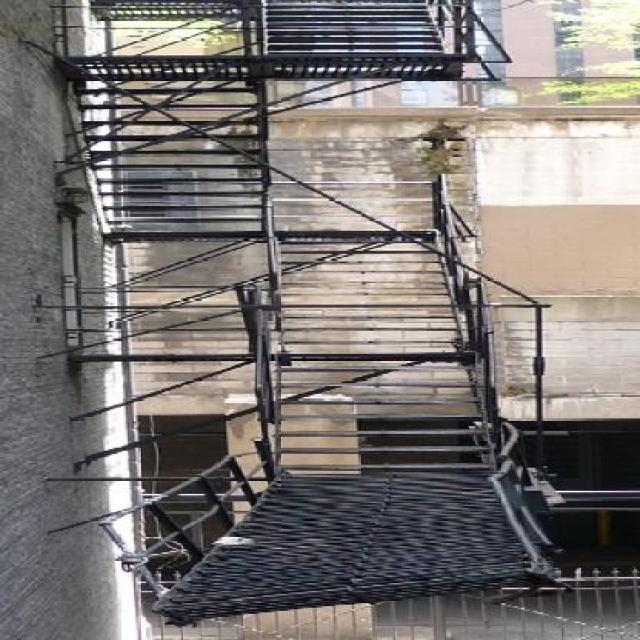stair: (32, 0, 576, 628)
